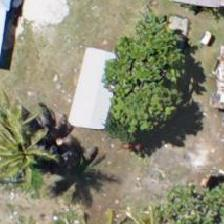coconut_tree: (0, 104, 67, 194)
